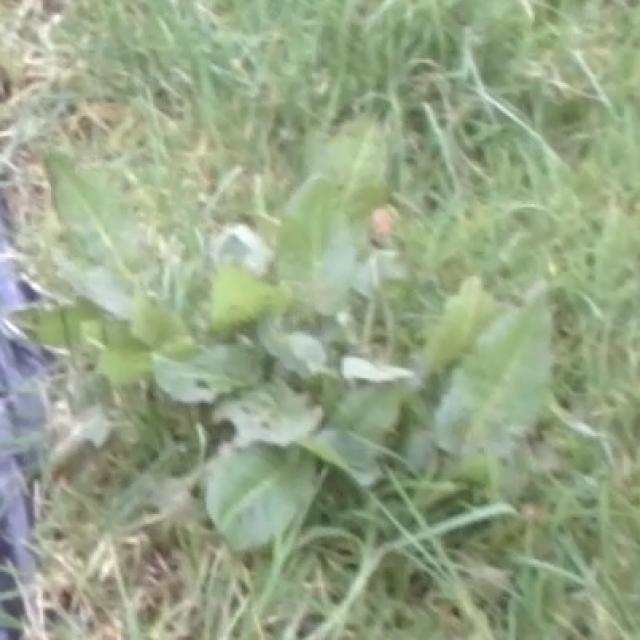organic waste: (0, 112, 595, 552)
